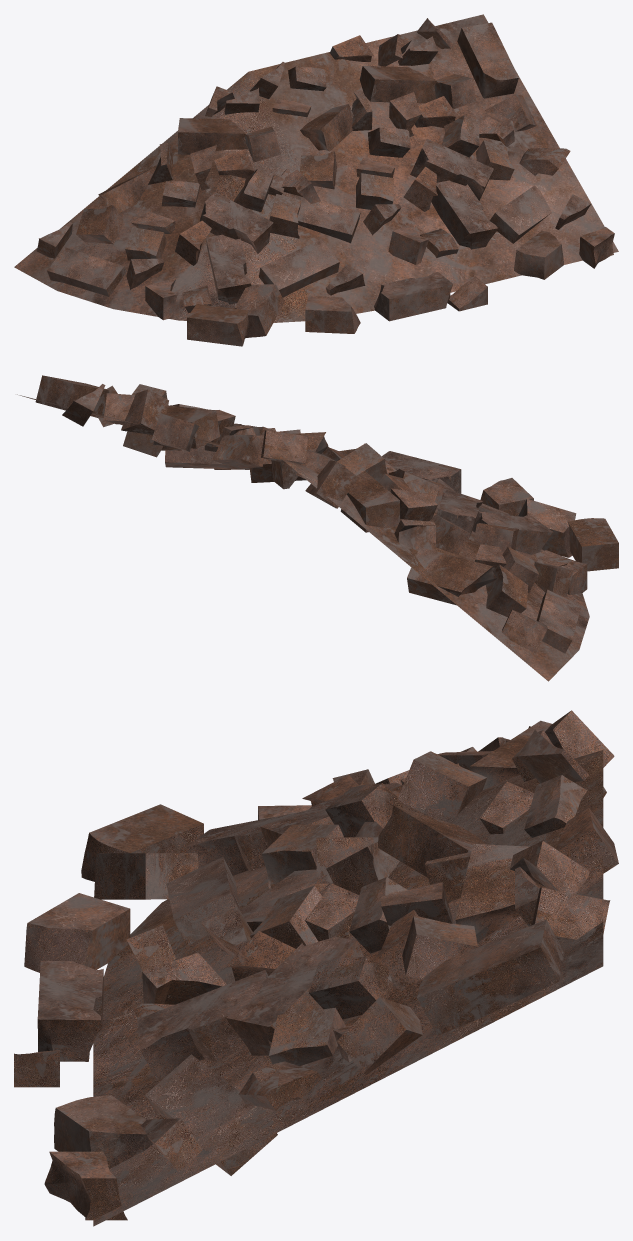
The model's file is DebrisBricks01_4.FBX.
3 views of the same model, one above another, from view 1: azimuth 30°, elevation 25°; view 2: azimuth 150°, elevation 25°; view 3: azimuth 270°, elevation 25° (orthographic). The views are drawn at different scales.
Parts seen in each view (by area): view 1: DebrisBricks04; view 2: DebrisBricks04; view 3: DebrisBricks04.
Part boxes in pixels (<box>): DebrisBricks04: <box>14,14,618,346</box>; DebrisBricks04: <box>17,375,618,681</box>; DebrisBricks04: <box>14,710,618,1226</box>.
Size of the model in its own units: 202 by 66.23 by 120.
